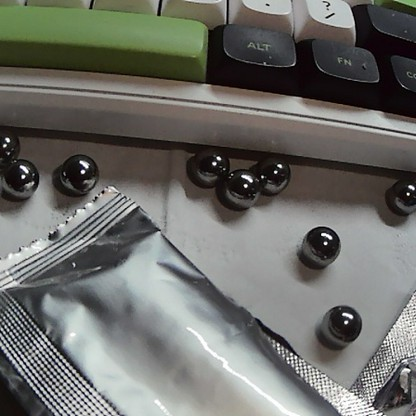ironball: (316, 287, 366, 353), (295, 215, 340, 268), (249, 154, 300, 200), (55, 144, 99, 192), (216, 170, 261, 210), (186, 149, 233, 187), (0, 160, 40, 197), (386, 168, 415, 214), (0, 126, 20, 155)
